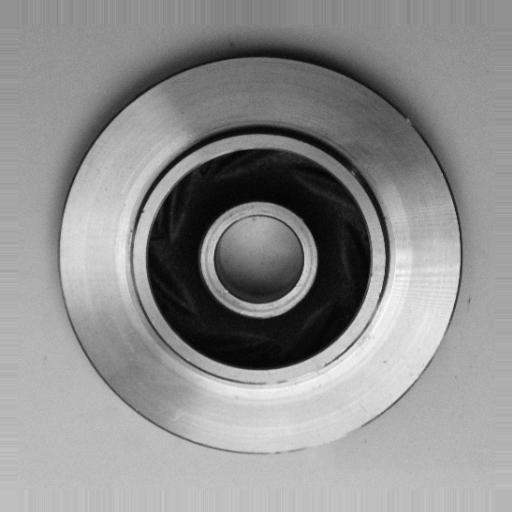scratch: (260, 424, 365, 474)
unpolished_casting: (54, 51, 463, 460)
